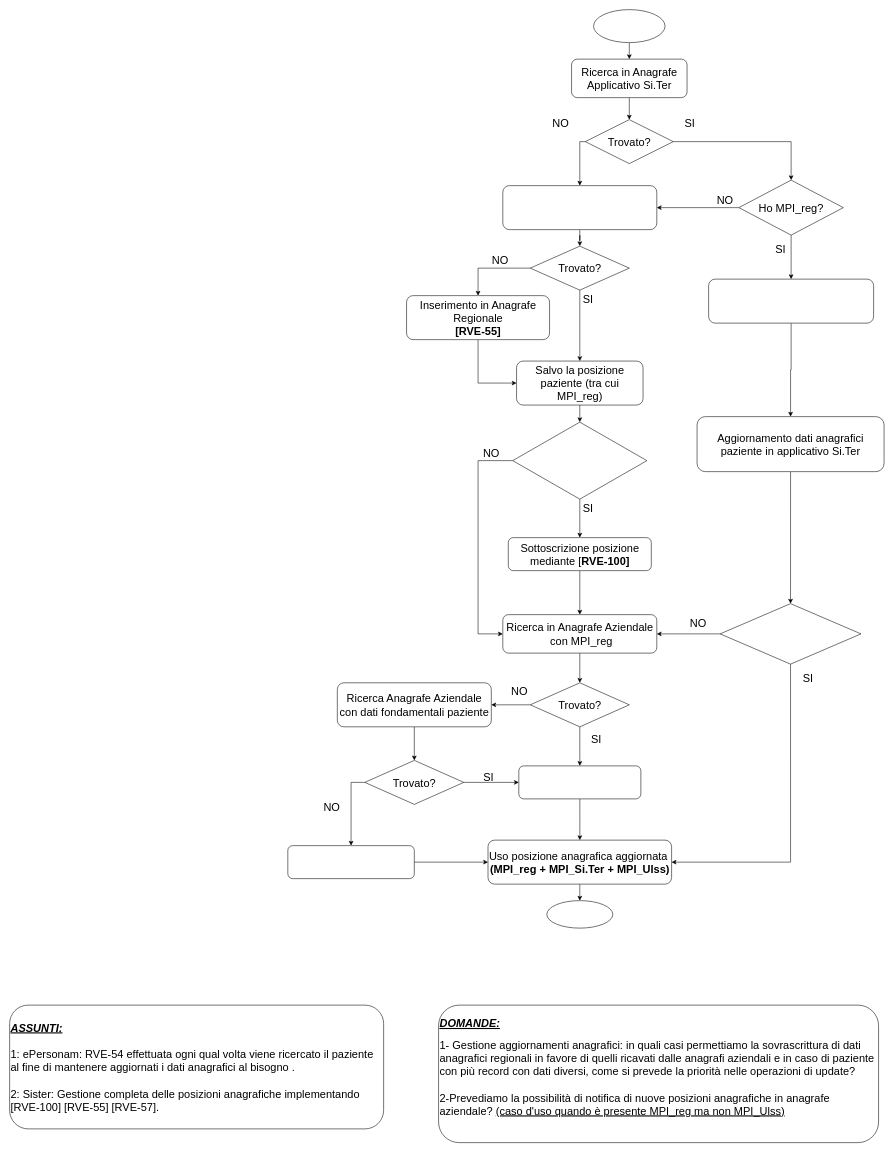
Some shapes in this 894 by 1152 pixel diagram are drawn without their labels. Here are the shapes that lost their labels. From the top down, the centre of each, then its label:
At point 629,26: "START".
At point 579,207: "Ricerca Anagrafe Regionale con dati fondamentali paziente [ RVE-54]".
At point 791,301: "Ricerca Anagrafe Regionale con MPI_reg [ RVE-54]".
At point 579,460: "L'applicativo prevede sottoscrizione?".
At point 790,633: "Ho MPI_Ulss in carico?".
At point 579,782: "Salvo MPI_Ulss Vedi box domande n.1".
At point 350,862: "???? Vedi box domande n.2".
At point 579,914: "END".
